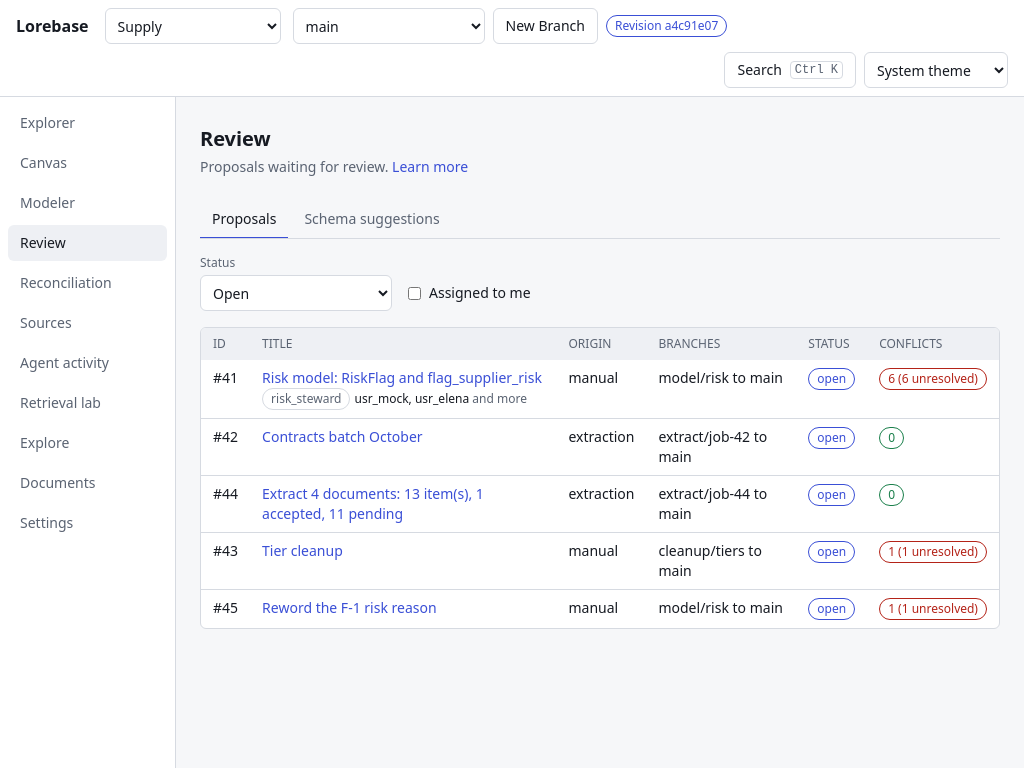
Scenario: Reconciliation › opens from the navigation with a tab per type and its count
Click the link "Reconciliation" at (66, 282), box [20, 273, 112, 292]
(page scrolled)
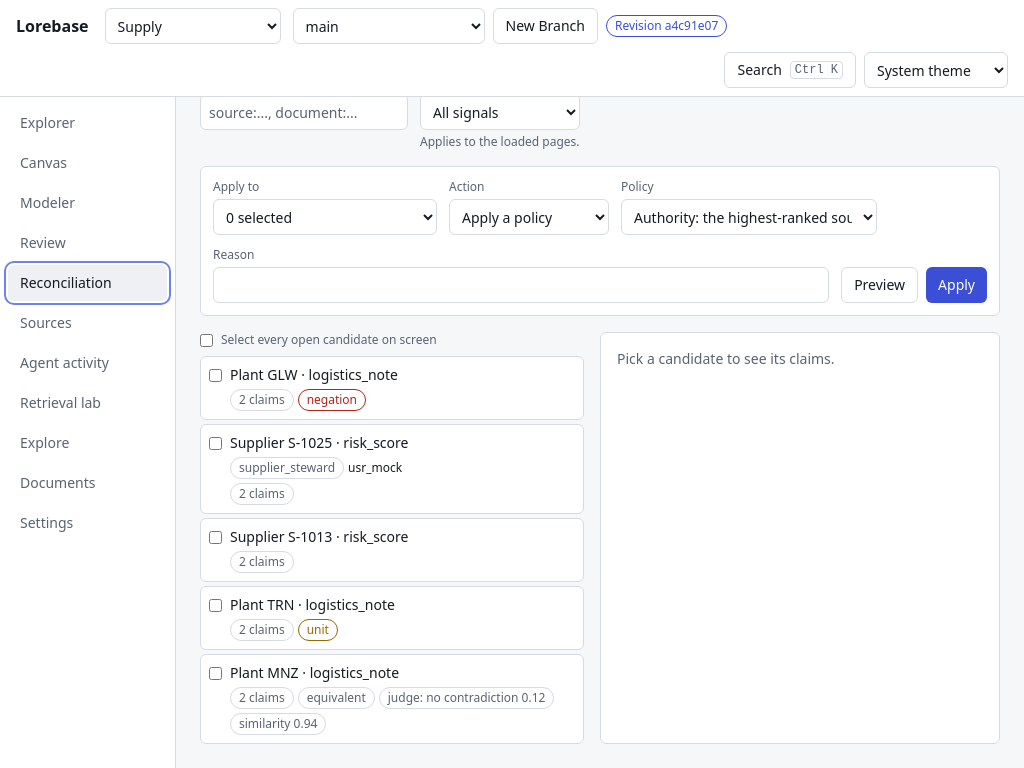
Expected: the list item "Plant GLW · logistics_note 2 claims negation" is shown, [200, 356, 584, 420]
Expected: the list item that starts with "Plant MNZ · logistics_note" is shown, [230, 663, 575, 735]
Expected: the list item that starts with "Plant MNZ · logistics_note" shows "equivalent", [230, 663, 575, 735]
